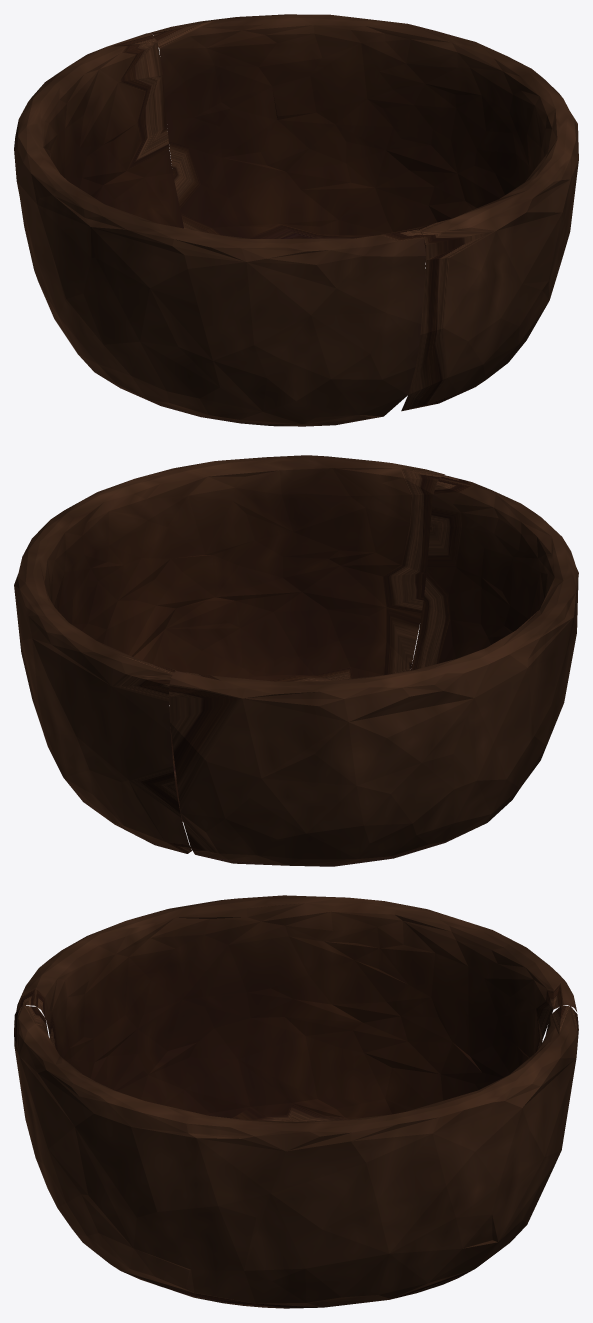
Rendered from kitchenware_bowl_i01.glb.
3 renders of one model, top to bottom at view 1: azimuth 30°, elevation 25°; view 2: azimuth 150°, elevation 25°; view 3: azimuth 270°, elevation 25°, orthographic.
Parts seen in each view (by area): view 1: geometry_0; view 2: geometry_0; view 3: geometry_0.
Part boxes in pixels (x1=…): geometry_0: x1=14, y1=14, x2=578, y2=426; geometry_0: x1=14, y1=455, x2=578, y2=866; geometry_0: x1=14, y1=895, x2=578, y2=1308.
Size of the model in its own units: 0.42 by 0.1692 by 0.4186.
1 material, 1 textured.
